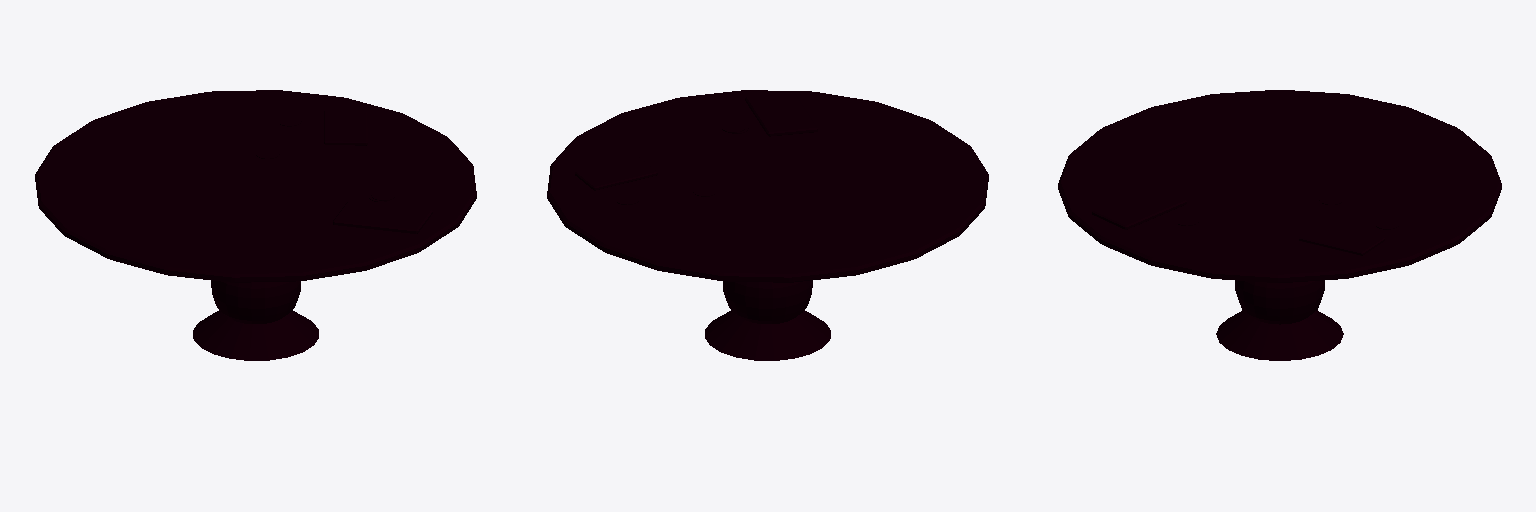
The model's file is TextureTable.obj.
3 renders of one model, left to right at view 1: azimuth 30°, elevation 25°; view 2: azimuth 150°, elevation 25°; view 3: azimuth 270°, elevation 25°, orthographic.
Parts seen in each view (by area): view 1: pCylinder8; view 2: pCylinder8; view 3: pCylinder8.
Boxes of the visible parts, x1=… form: pCylinder8: x1=35, y1=90, x2=476, y2=360; pCylinder8: x1=547, y1=90, x2=988, y2=360; pCylinder8: x1=1058, y1=90, x2=1501, y2=360.
Size of the model in its own units: 10.59 by 4.12 by 10.59.